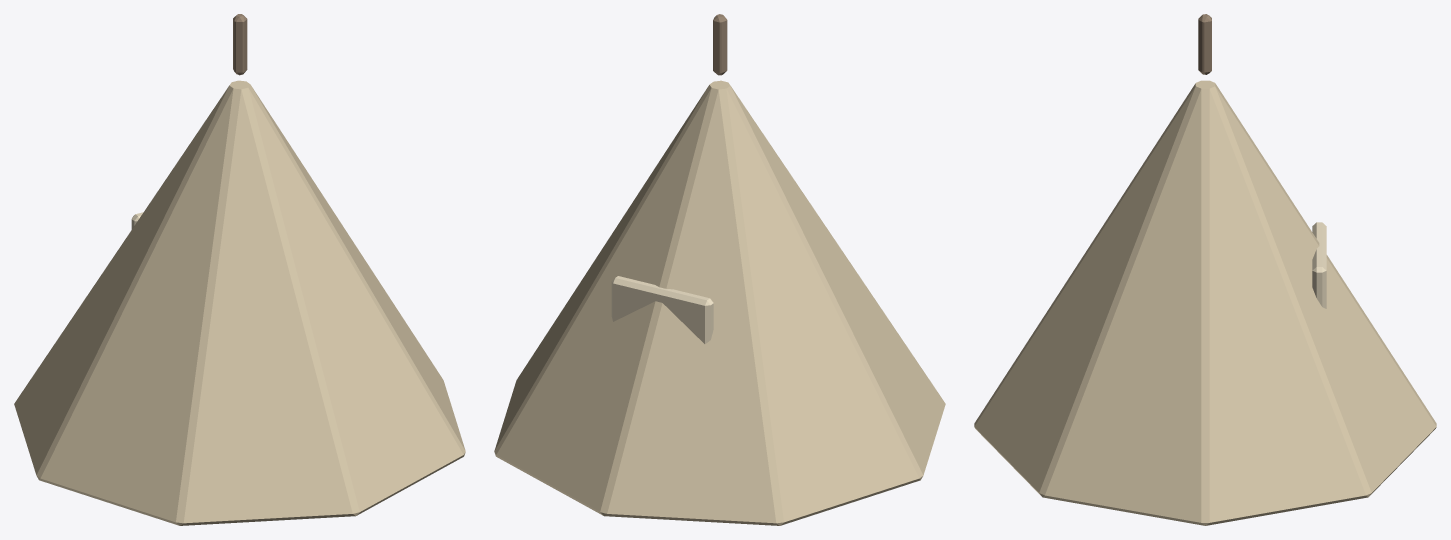
The model's file is tent.glb.
3 renders of one model, left to right at view 1: azimuth 30°, elevation 25°; view 2: azimuth 150°, elevation 25°; view 3: azimuth 270°, elevation 25°, orthographic.
Parts seen in each view (by area): view 1: tent, pole; view 2: tent, flap, pole; view 3: tent, flap, pole.
Boxes of the visible parts, left/top/right/bottom form: tent: left=14, top=80, right=465, bottom=525; pole: left=233, top=14, right=247, bottom=75; tent: left=494, top=80, right=945, bottom=525; flap: left=611, top=276, right=713, bottom=343; pole: left=713, top=14, right=727, bottom=75; tent: left=974, top=80, right=1436, bottom=525; flap: left=1312, top=222, right=1326, bottom=308; pole: left=1198, top=14, right=1211, bottom=74.
Bounding box in the file's own units: 1.3 × 1.28 × 1.3.
